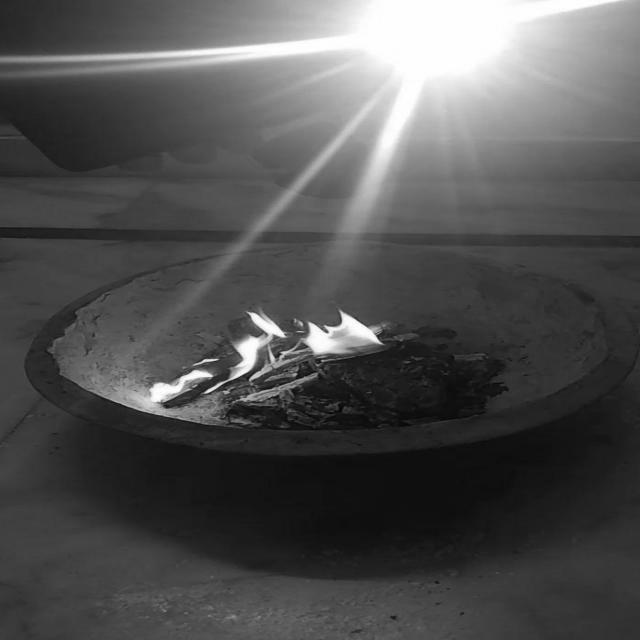smoke: (204, 308, 288, 394), (304, 302, 379, 355), (146, 366, 214, 406)
